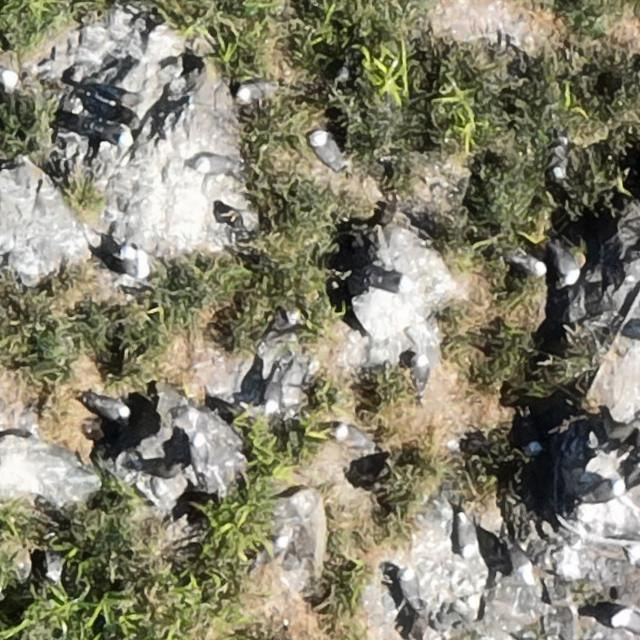umineko: (504, 530, 535, 586), (578, 478, 626, 510), (263, 369, 291, 414), (516, 436, 545, 471), (308, 127, 336, 160), (191, 432, 207, 480), (556, 251, 578, 283), (93, 398, 125, 419), (514, 254, 544, 276), (338, 428, 370, 448), (371, 273, 405, 291), (194, 157, 230, 173), (614, 611, 640, 633), (103, 125, 131, 145), (456, 517, 471, 553), (237, 83, 265, 101), (413, 356, 429, 387), (46, 550, 62, 580), (401, 570, 416, 602), (122, 248, 139, 276), (272, 310, 297, 328), (2, 67, 19, 89), (114, 129, 132, 147)
